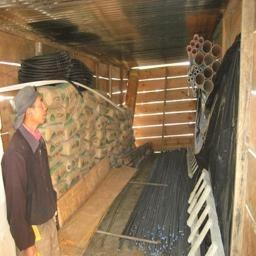no hat: (9, 86, 56, 128)
no vest: (1, 128, 66, 254)
